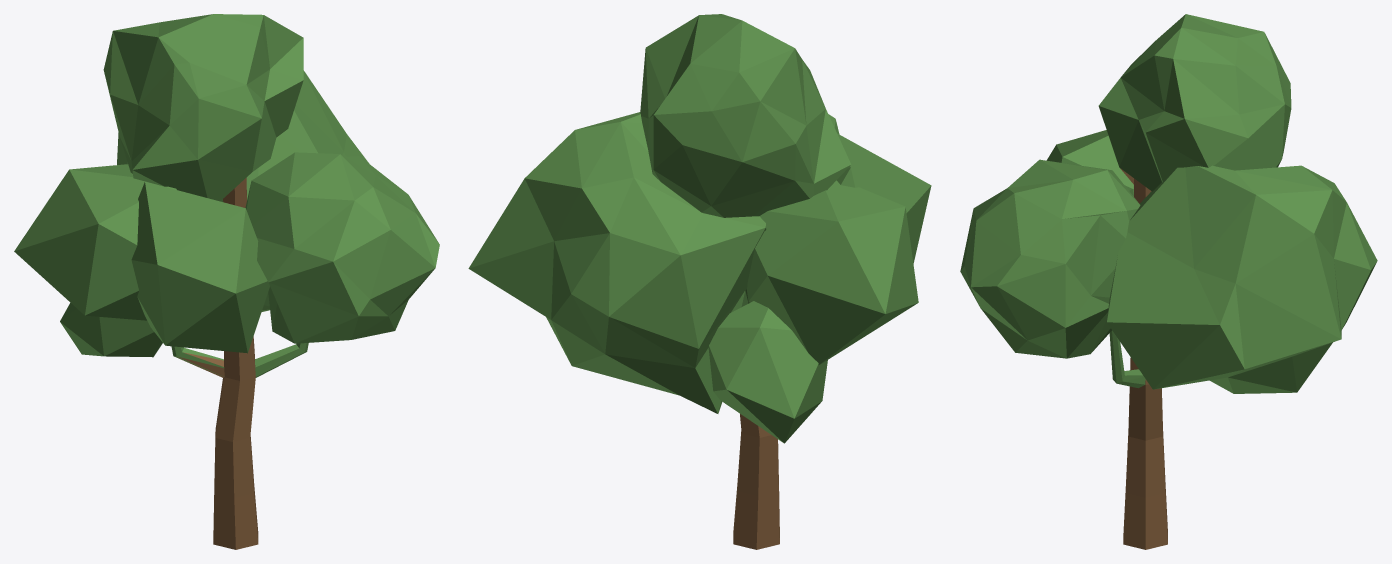
The model's file is tree3d-073.glb.
3 views of the same model, side by side, from view 1: azimuth 30°, elevation 25°; view 2: azimuth 150°, elevation 25°; view 3: azimuth 270°, elevation 25° (orthographic). The views are drawn at different scales.
Visible parts, largest first — view 1: tree3d-073; view 2: tree3d-073; view 3: tree3d-073.
Part boxes in pixels (bbox=[...]): tree3d-073: bbox=[14, 14, 439, 549]; tree3d-073: bbox=[468, 14, 931, 549]; tree3d-073: bbox=[960, 14, 1377, 549].
Size of the model in its own units: 0.7285 by 1 by 0.7426.
